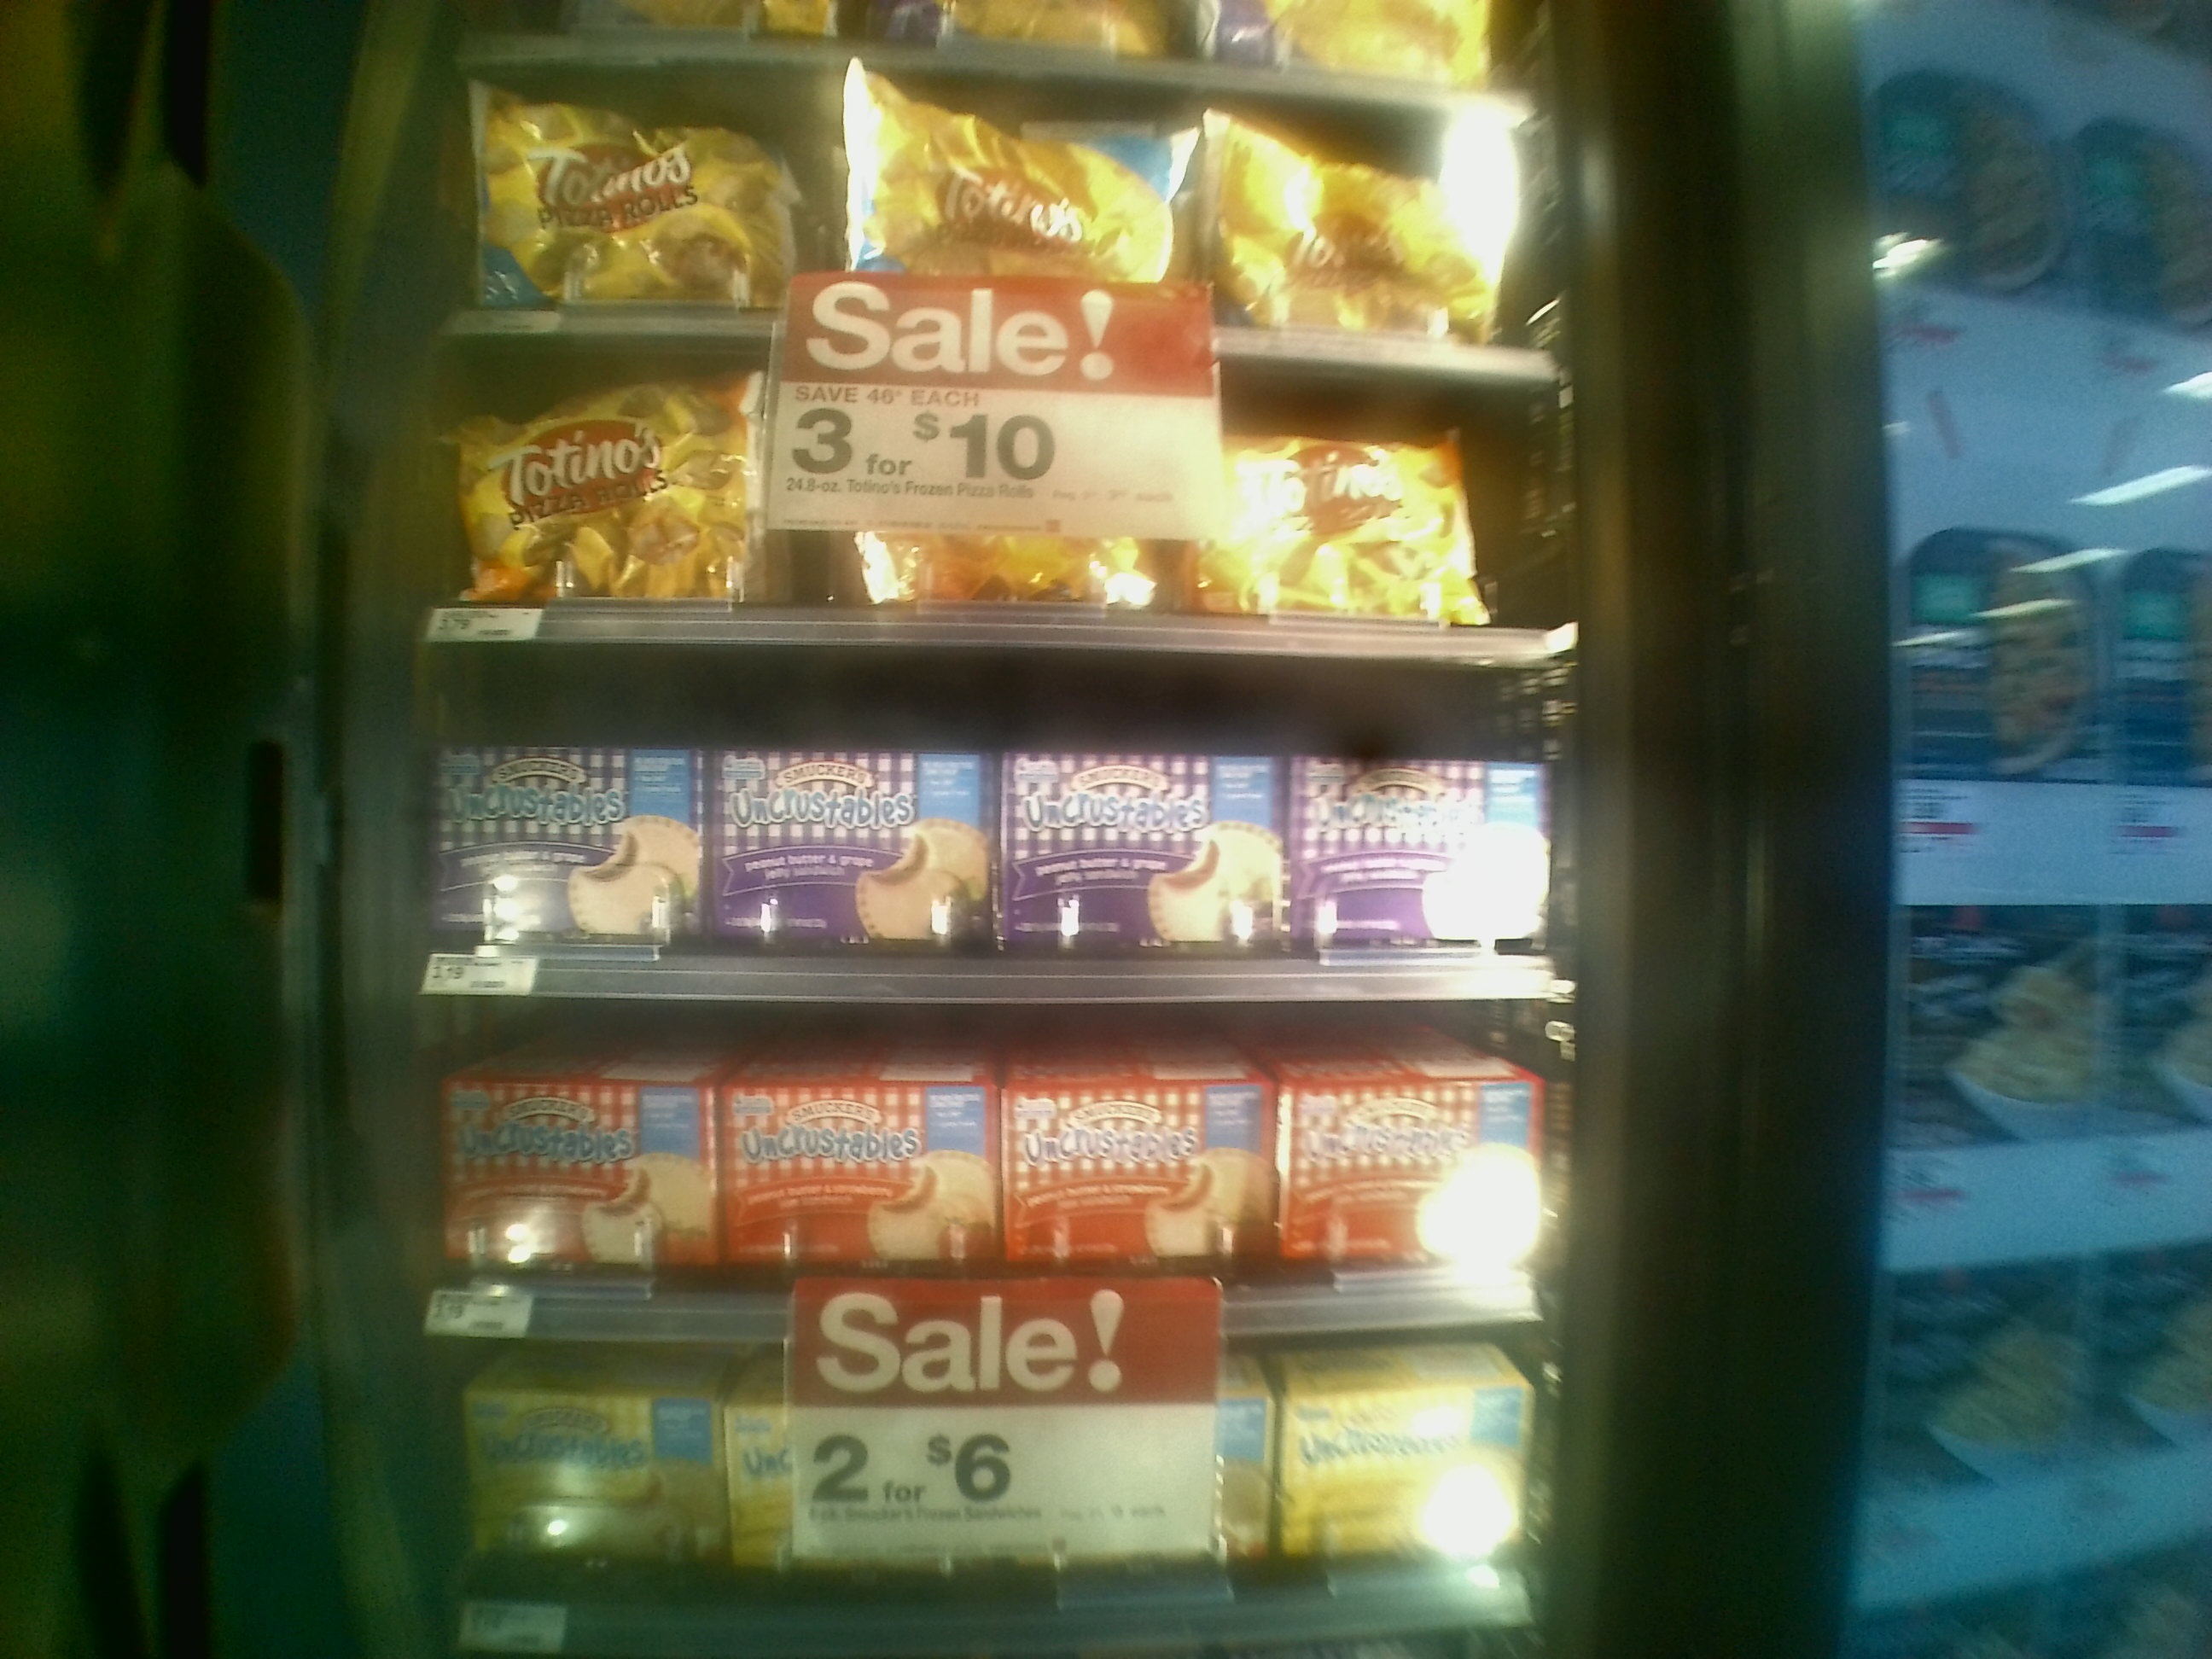shelf: (387, 629, 1583, 1006), (381, 981, 1604, 1338), (408, 301, 1564, 669)
